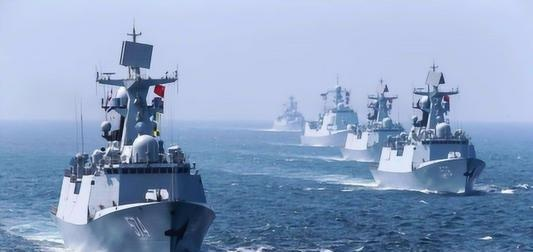warship: (50, 24, 228, 249), (366, 59, 492, 193), (341, 79, 421, 162), (302, 76, 363, 147), (270, 90, 311, 134)
